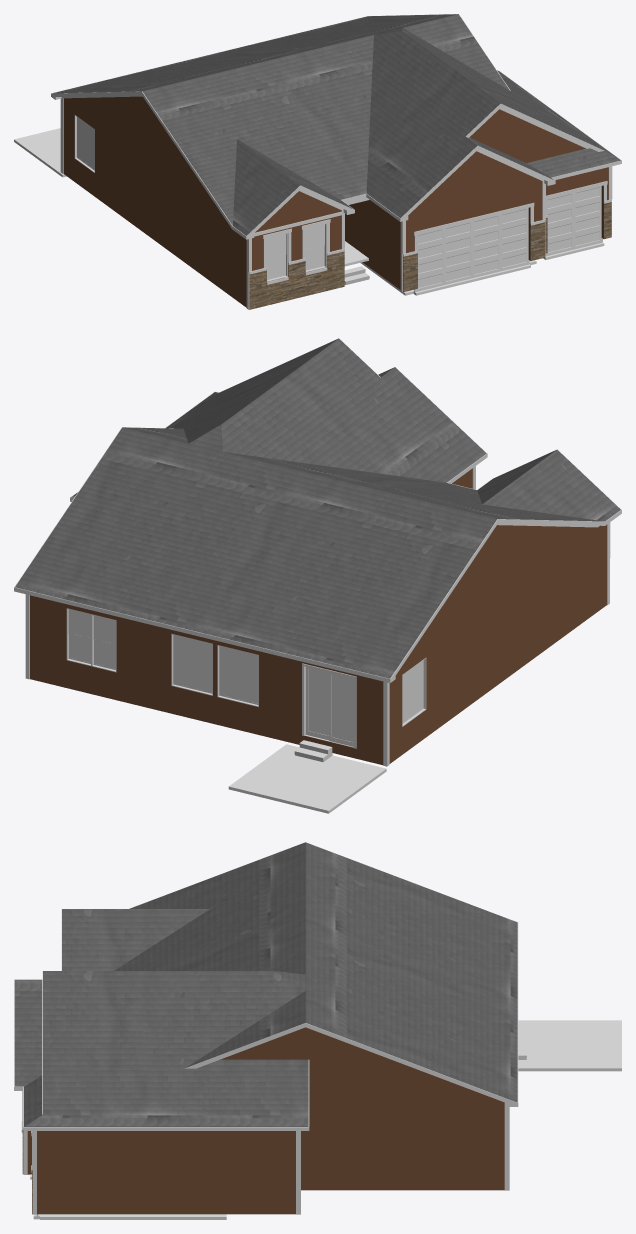
The model's file is 150-1569-dm-farmhouse.glb.
The picture shows the model from 3 angles, top to bottom: view 1: azimuth 30°, elevation 25°; view 2: azimuth 150°, elevation 25°; view 3: azimuth 270°, elevation 25°; orthographic projection. The views are drawn at different scales.
Parts seen in each view (by area): view 1: Basic Roof Wood Rafter 4" - Asphalt Shingle - Insulated_6eec, Basic Roof Wood Rafter 4" - Asphalt Shingle - Insulated_db37, Basic Wall BSB Exterior - Stud_5.5" - Sheathing_0.5" - _1e27, Traditional - BSB Exterior - Overhead Garage Door - Clo_7d0f, Basic Wall BSB Exterior - Stud_1.5" - Sheathing_0.5" - _a875, Basic Roof Wood Rafter 4" - Asphalt Shingle - Insulated_a0b6, Fascia Fascia-Flat 1x6 w/12" Soffit Bd [4300920], Basic Wall BSB Exterior - Stud_1.5" - Sheathing_0.5" - _cab8, Basic Wall BSB Exterior - Stud_3.5" - Sheathing_0.5" - _3561, Traditional - BSB Exterior - Overhead Garage Door - Clo_afcb, Basic Wall BSB Exterior - Stud_1.5" - Sheathing_0.5" - _51a9, Basic Wall BSB Exterior - Stud_3.5" - Sheathing_0.5" - _85ea (+16 smaller); view 2: Basic Roof Wood Rafter 4" - Asphalt Shingle - Insulated_6eec, Basic Roof Wood Rafter 4" - Asphalt Shingle - Insulated_db37, Basic Wall BSB Exterior - Stud_5.5" - Sheathing_0.5" - _50df, Basic Wall BSB Exterior - Stud_5.5" - Sheathing_0.5" - _1e27, Basic Wall BSB Exterior - Stud_1.5" - Sheathing_0.5" - _a875, Floor Generic - 4" [4266487], Basic Roof Wood Rafter 4" - Asphalt Shingle - Insulated_a0b6, BSB Exterior - SGD XO - 1-Lite 6080 [4266501], Fascia Fascia-Flat 1x6 w/12" Soffit Bd [4300920], BSB Fixed 5060 FX w/ Sill [4266502], BSB Fixed 5060 FX w/ Sill [4266503], Basic Wall BSB Exterior - Stud_5.5" - Sheathing_0.5" - _173c (+4 smaller); view 3: Basic Roof Wood Rafter 4" - Asphalt Shingle - Insulated_6eec, Basic Roof Wood Rafter 4" - Asphalt Shingle - Insulated_db37, Basic Wall BSB Exterior - Stud_5.5" - Sheathing_0.5" - _ae12, Basic Wall BSB Exterior - Stud_1.5" - Sheathing_0.5" - _4d71, Basic Wall BSB Exterior - Stud_3.5" - Sheathing_0.5" - _496f, Basic Wall BSB Exterior - Stud_3.5" - Sheathing_0.5" - _d089, Basic Roof Wood Rafter 4" - Asphalt Shingle - Insulated_a0b6, Basic Wall BSB Exterior - Stud_5.5" - Sheathing_0.5" - _a6fc, Floor Generic - 4" [4266487], Fascia Fascia-Flat 1x6 w/12" Soffit Bd [4300920], Trim - Corner Boards1 Trim - Corner Boards [4300894], Floor BSB Concrete Slab - 4" - Slope Option [4286421] (+1 smaller).
Boxes of the visible parts, x1,y1,x2,y2 form: Basic Roof Wood Rafter 4" - Asphalt Shingle - Insulated_6eec: (53, 14, 509, 225); Basic Roof Wood Rafter 4" - Asphalt Shingle - Insulated_db37: (366, 28, 611, 218); Basic Wall BSB Exterior - Stud_5.5" - Sheathing_0.5" - _1e27: (63, 99, 232, 297); Traditional - BSB Exterior - Overhead Garage Door - Clo_7d0f: (414, 208, 529, 292); Basic Wall BSB Exterior - Stud_1.5" - Sheathing_0.5" - _a875: (64, 96, 221, 213); Basic Roof Wood Rafter 4" - Asphalt Shingle - Insulated_a0b6: (233, 139, 353, 235); Fascia Fascia-Flat 1x6 w/12" Soffit Bd [4300920]: (52, 14, 621, 239); Basic Wall BSB Exterior - Stud_1.5" - Sheathing_0.5" - _cab8: (409, 151, 542, 214); Basic Wall BSB Exterior - Stud_3.5" - Sheathing_0.5" - _3561: (345, 200, 400, 289); Traditional - BSB Exterior - Overhead Garage Door - Clo_afcb: (545, 186, 602, 256); Basic Wall BSB Exterior - Stud_1.5" - Sheathing_0.5" - _51a9: (469, 109, 585, 162); Basic Wall BSB Exterior - Stud_3.5" - Sheathing_0.5" - _85ea: (406, 182, 542, 260); Basic Roof Wood Rafter 4" - Asphalt Shingle - Insulated_6eec: (15, 427, 602, 678); Basic Roof Wood Rafter 4" - Asphalt Shingle - Insulated_db37: (72, 338, 486, 496); Basic Wall BSB Exterior - Stud_5.5" - Sheathing_0.5" - _50df: (30, 595, 383, 765); Basic Wall BSB Exterior - Stud_5.5" - Sheathing_0.5" - _1e27: (389, 528, 589, 763); Basic Wall BSB Exterior - Stud_1.5" - Sheathing_0.5" - _a875: (403, 525, 590, 664); Floor Generic - 4" [4266487]: (228, 744, 386, 813); Basic Roof Wood Rafter 4" - Asphalt Shingle - Insulated_a0b6: (477, 449, 620, 521); BSB Exterior - SGD XO - 1-Lite 6080 [4266501]: (302, 663, 356, 748); Fascia Fascia-Flat 1x6 w/12" Soffit Bd [4300920]: (14, 338, 621, 682); BSB Fixed 5060 FX w/ Sill [4266502]: (217, 645, 258, 707); BSB Fixed 5060 FX w/ Sill [4266503]: (171, 633, 212, 695); Basic Wall BSB Exterior - Stud_5.5" - Sheathing_0.5" - _173c: (589, 525, 606, 617); Basic Roof Wood Rafter 4" - Asphalt Shingle - Insulated_6eec: (114, 842, 517, 1102); Basic Roof Wood Rafter 4" - Asphalt Shingle - Insulated_db37: (14, 971, 308, 1126); Basic Wall BSB Exterior - Stud_5.5" - Sheathing_0.5" - _ae12: (301, 1102, 504, 1190); Basic Wall BSB Exterior - Stud_1.5" - Sheathing_0.5" - _4d71: (220, 1027, 502, 1101); Basic Wall BSB Exterior - Stud_3.5" - Sheathing_0.5" - _496f: (37, 1131, 133, 1214); Basic Wall BSB Exterior - Stud_3.5" - Sheathing_0.5" - _d089: (133, 1131, 228, 1214); Basic Roof Wood Rafter 4" - Asphalt Shingle - Insulated_a0b6: (62, 909, 209, 970); Basic Wall BSB Exterior - Stud_5.5" - Sheathing_0.5" - _a6fc: (228, 1131, 295, 1214); Floor Generic - 4" [4266487]: (518, 1020, 621, 1071); Fascia Fascia-Flat 1x6 w/12" Soffit Bd [4300920]: (14, 842, 518, 1130); Trim - Corner Boards1 Trim - Corner Boards [4300894]: (22, 1091, 509, 1214); Floor BSB Concrete Slab - 4" - Slope Option [4286421]: (24, 1174, 226, 1219).
Bounding box in the file's own units: 15.58 × 6.78 × 19.53.
Materials: 3 (2 with a texture image).
